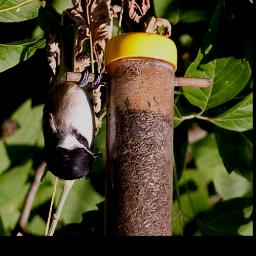Swallow: (41, 63, 107, 184)
